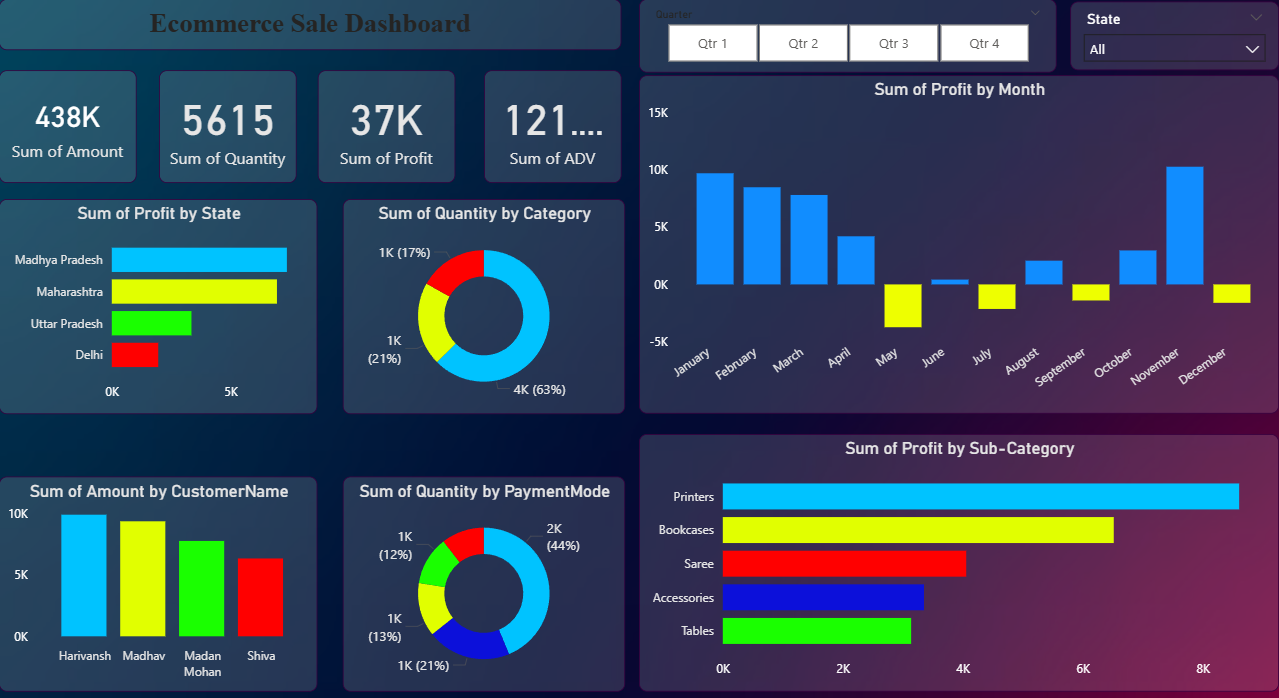

The page's visual inventory and layout, read from the dashboard file:
{"tool":"powerbi","page":{"name":"Page 1","canvas":[1280,720],"ordinal":0},"visuals":[{"type":"textbox","box":[0,0,622.5,51.2],"z":0},{"type":"columnChart","fields":{"Y":["Sum(Details.Profit)"],"Category":["Orders.Order Date.Variation.Date Hierarchy.Month"]},"box":[640,76.2,640,338.8],"z":1000},{"type":"barChart","fields":{"Category":["Details.Sub-Category"],"Y":["Sum(Details.Profit)"]},"box":[640,435,640,257.5],"z":2000},{"type":"donutChart","fields":{"Category":["Details.Category"],"Y":["Sum(Details.Quantity)"]},"box":[343.8,200,282.5,215],"z":3000},{"type":"donutChart","fields":{"Category":["Details.PaymentMode"],"Y":["Sum(Details.Quantity)"]},"box":[343.8,477.5,282.5,215],"z":4000},{"type":"card","fields":{"Values":["Sum(Details.Amount)"]},"box":[0,71.2,137.5,112.5],"z":5000},{"type":"card","fields":{"Values":["Sum(Details.Quantity)"]},"box":[160,71.2,137.5,112.5],"z":6000},{"type":"card","fields":{"Values":["Sum(Details.Profit)"]},"box":[318.8,71.2,137.5,112.5],"z":7000},{"type":"card","fields":{"Values":["Sum(Details.ADV)"]},"box":[485,71.2,137.5,112.5],"z":8000},{"type":"barChart","fields":{"Category":["Orders.State","Details.Sub-Category"],"Y":["Sum(Details.Profit)"]},"box":[0,200,318.8,215],"z":9000},{"type":"columnChart","fields":{"Category":["Orders.CustomerName"],"Y":["Sum(Details.Amount)"]},"box":[0,477.5,318.8,215],"z":9001},{"type":"slicer","fields":{"Values":["Orders.Order Date.Variation.Date Hierarchy.Quarter"]},"box":[640,0,417.5,73.8],"z":9002},{"type":"slicer","fields":{"Values":["Orders.State"]},"box":[1071.2,2.5,208.8,68.8],"z":9003}]}

Visuals, with their boxes on the page's 1280x720 design canvas (x1, y1, x2, y2). These are canvas units, not pixel positions in the 1279x698 screenshot, which may show the page scaled, cropped or inside an application window:
textbox: (left=0, top=0, right=622, bottom=51)
columnChart - Sum(Details.Profit) x Orders.Order Date.Variation.Date Hierarchy.Month: (left=640, top=76, right=1280, bottom=415)
barChart - Details.Sub-Category x Sum(Details.Profit): (left=640, top=435, right=1280, bottom=692)
donutChart - Details.Category x Sum(Details.Quantity): (left=344, top=200, right=626, bottom=415)
donutChart - Details.PaymentMode x Sum(Details.Quantity): (left=344, top=478, right=626, bottom=692)
card - Sum(Details.Amount): (left=0, top=71, right=138, bottom=184)
card - Sum(Details.Quantity): (left=160, top=71, right=298, bottom=184)
card - Sum(Details.Profit): (left=319, top=71, right=456, bottom=184)
card - Sum(Details.ADV): (left=485, top=71, right=622, bottom=184)
barChart - Orders.State x Details.Sub-Category: (left=0, top=200, right=319, bottom=415)
columnChart - Orders.CustomerName x Sum(Details.Amount): (left=0, top=478, right=319, bottom=692)
slicer - Orders.Order Date.Variation.Date Hierarchy.Quarter: (left=640, top=0, right=1058, bottom=74)
slicer - Orders.State: (left=1071, top=2, right=1280, bottom=71)
